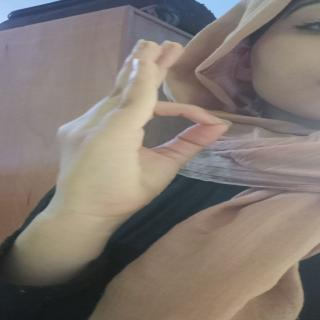Space: (41, 39, 235, 198)
